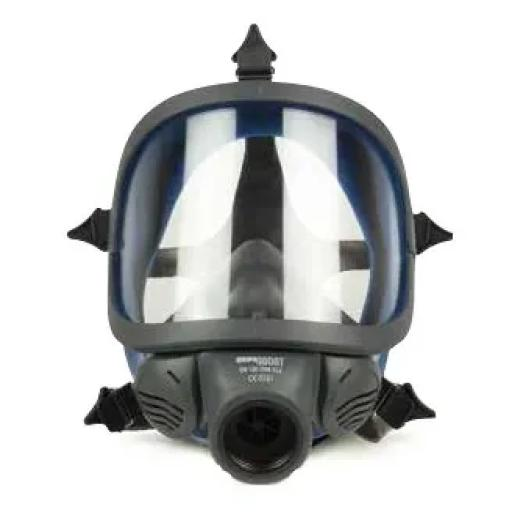mask: (72, 71, 420, 473)
